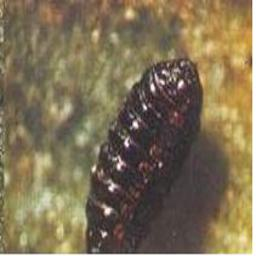liriomyza: (83, 58, 204, 254)
